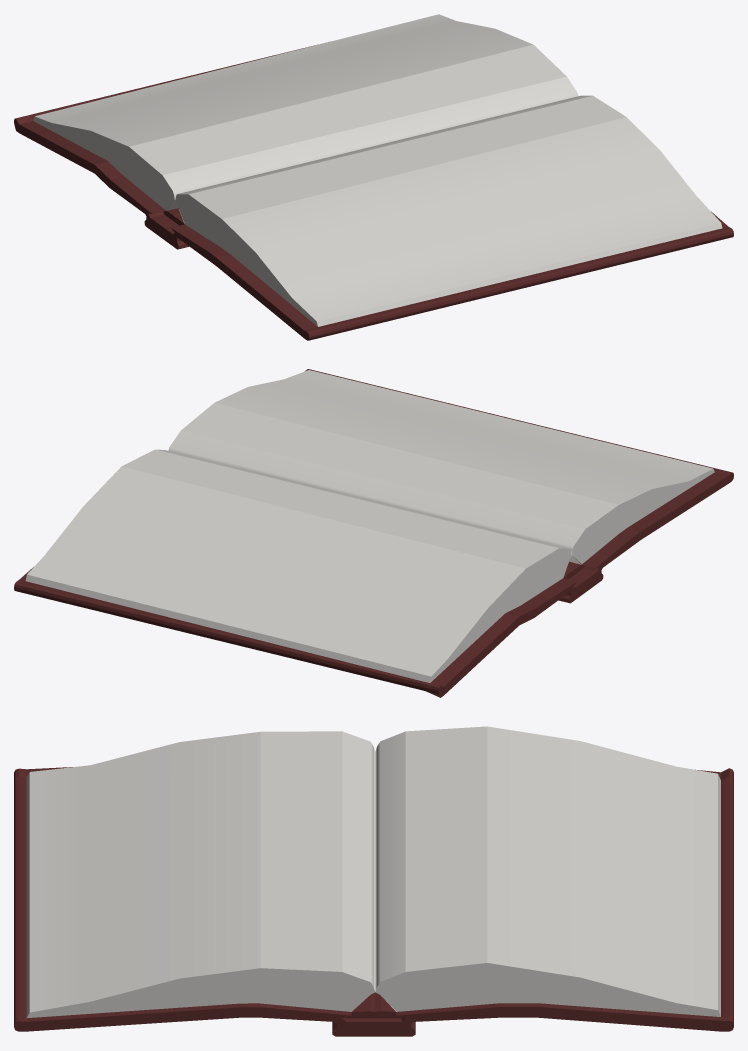
File: Book_OpenRed.fbx
3 views of the same model, one above another, from view 1: azimuth 30°, elevation 25°; view 2: azimuth 150°, elevation 25°; view 3: azimuth 270°, elevation 25° (orthographic). The views are drawn at different scales.
Parts seen in each view (by area): view 1: Book; view 2: Book; view 3: Book.
Part boxes in pixels (bbox=[...]): Book: bbox=[14, 14, 733, 340]; Book: bbox=[14, 369, 733, 697]; Book: bbox=[14, 726, 733, 1036].
Size of the model in its own units: 6.38 by 0.8229 by 7.68.
